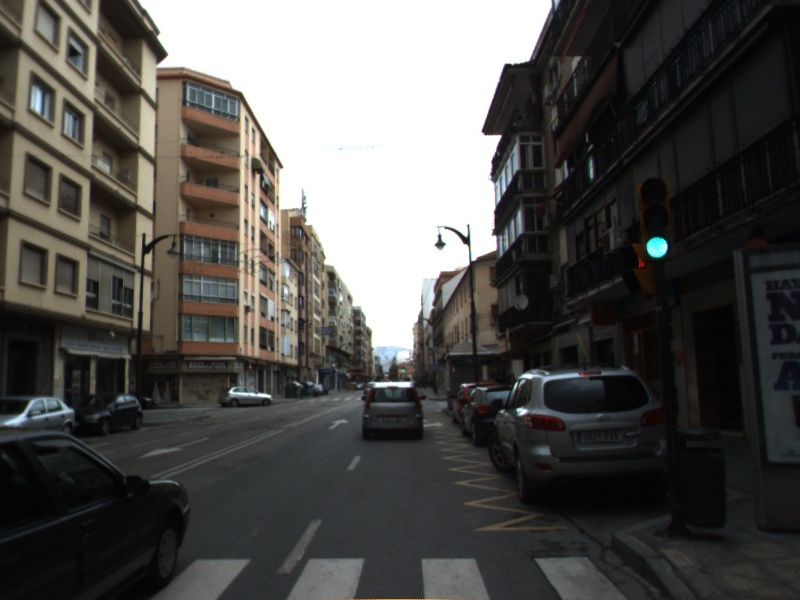STRAIGHT: (326, 417, 351, 431)
